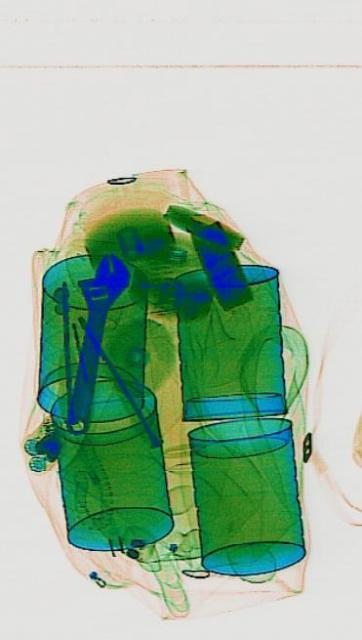Wrench: (47, 236, 130, 444)
